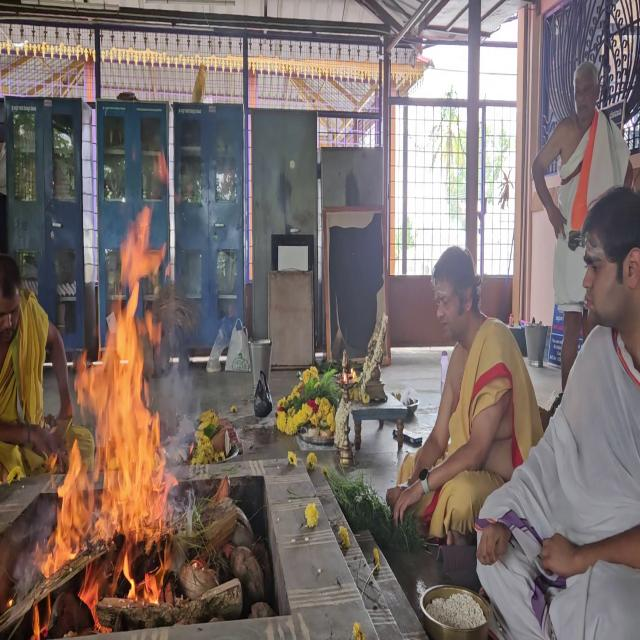fire: (36, 174, 184, 640)
